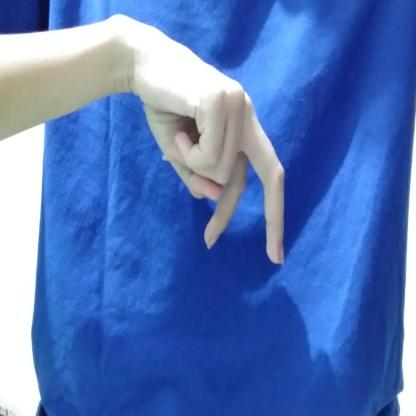run: (110, 12, 308, 273)
